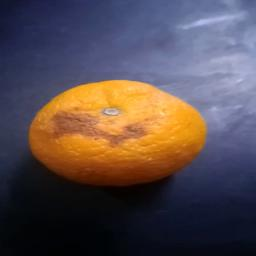Orange Semifresh: (16, 82, 208, 185)
